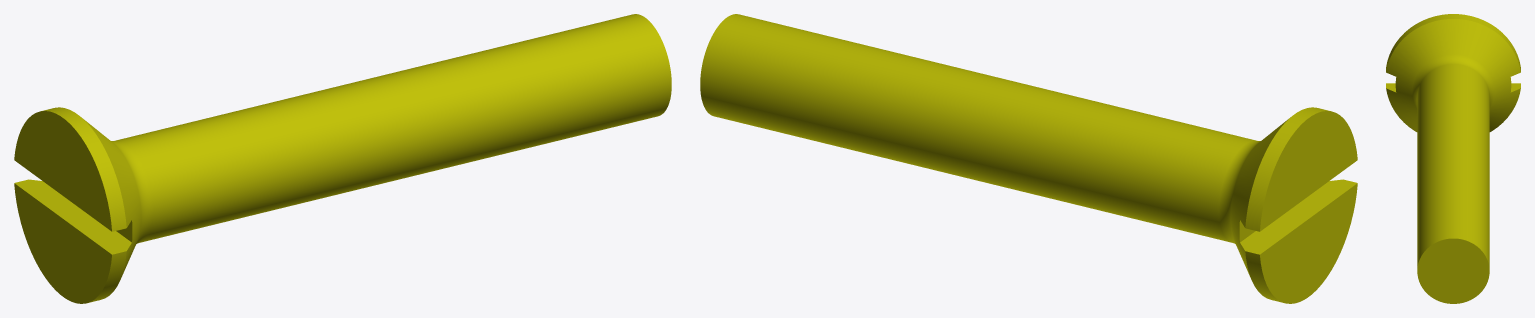
File: slotted_countersunk_flat_head_screw_iso_ISO_2009___M2_5_x_16___16N_MTi_6x0R_simple_2__MTi_6x0R_simpl.gltf
3 views of the same model, side by side, from view 1: azimuth 30°, elevation 25°; view 2: azimuth 150°, elevation 25°; view 3: azimuth 270°, elevation 25° (orthographic). The views are drawn at different scales.
Parts seen in each view (by area): view 1: mesh15617, mesh15623, mesh15626, mesh15624, mesh15622, mesh15619, mesh15618, mesh15625; view 2: mesh15617, mesh15623, mesh15626, mesh15624, mesh15622, mesh15619, mesh15618, mesh15625; view 3: mesh15617, mesh15619, mesh15616, mesh15618, mesh15622, mesh15624.
Boxes of the visible parts, bbox=[...] form: mesh15617: bbox=[116, 14, 671, 242]; mesh15623: bbox=[14, 111, 111, 231]; mesh15626: bbox=[14, 183, 111, 303]; mesh15624: bbox=[14, 179, 131, 254]; mesh15622: bbox=[41, 107, 126, 231]; mesh15619: bbox=[81, 117, 141, 279]; mesh15618: bbox=[111, 140, 152, 243]; mesh15625: bbox=[87, 251, 126, 303]; mesh15617: bbox=[700, 14, 1255, 242]; mesh15623: bbox=[1260, 111, 1357, 231]; mesh15626: bbox=[1260, 183, 1357, 303]; mesh15624: bbox=[1240, 179, 1357, 254]; mesh15622: bbox=[1245, 107, 1330, 231]; mesh15619: bbox=[1230, 117, 1290, 279]; mesh15618: bbox=[1219, 140, 1260, 243]; mesh15625: bbox=[1245, 251, 1284, 303]; mesh15617: bbox=[1417, 64, 1489, 267]; mesh15619: bbox=[1386, 19, 1520, 131]; mesh15616: bbox=[1417, 238, 1489, 303]; mesh15618: bbox=[1412, 54, 1494, 108]; mesh15622: bbox=[1386, 14, 1520, 71]; mesh15624: bbox=[1386, 83, 1520, 92].
Bounding box in the file's own units: 0.016 × 0.00469 × 0.00466.
